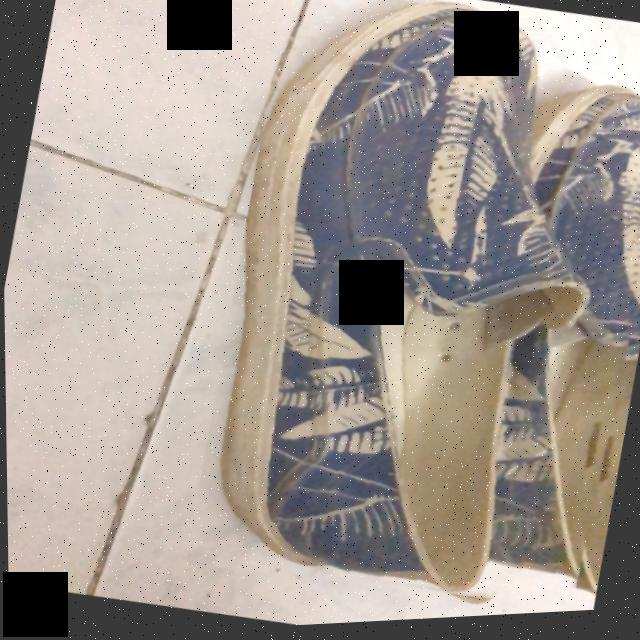shoe: (222, 8, 640, 603)
